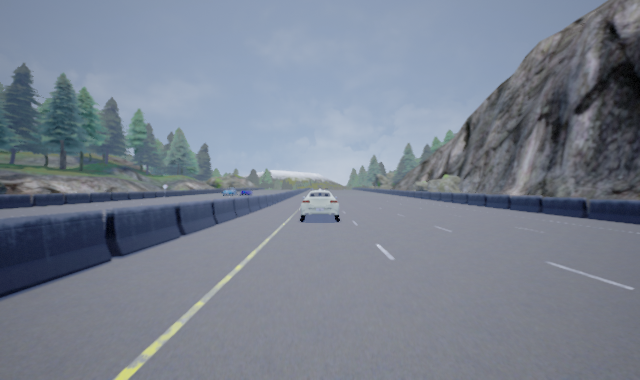vehicle: (298, 189, 341, 222), (221, 186, 238, 197), (240, 188, 252, 196)
